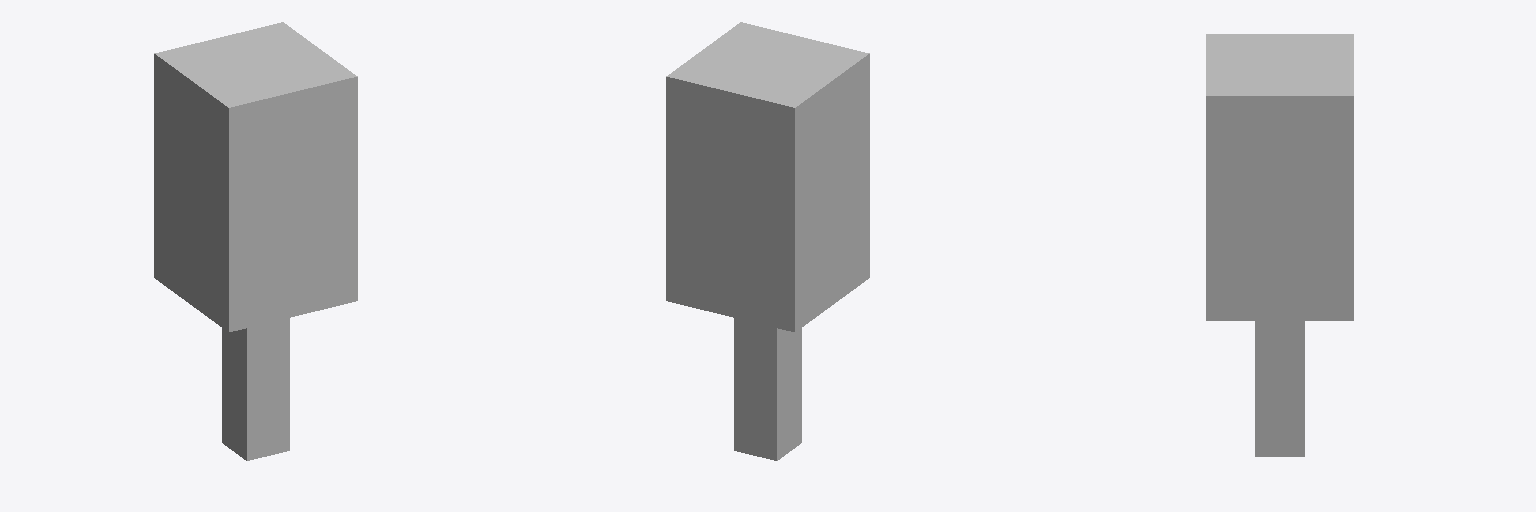
File: tree_tall.obj
3 renders of one model, left to right at view 1: azimuth 30°, elevation 25°; view 2: azimuth 150°, elevation 25°; view 3: azimuth 270°, elevation 25°, orthographic.
Visible parts, largest first — view 1: object 1; view 2: object 1; view 3: object 1.
Boxes of the visible parts, box(x1,y1,x2,y2) form: object 1: box(154, 22, 357, 460); object 1: box(666, 22, 869, 460); object 1: box(1206, 34, 1353, 456).
Size of the model in its own units: 0.6 by 1.7 by 0.6.